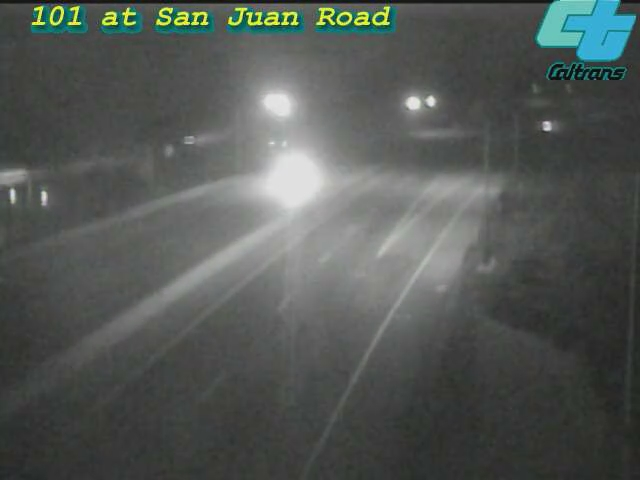vehicle: (257, 137, 337, 217)
